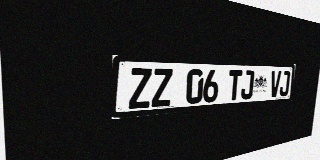0: (185, 69, 204, 104)
6: (202, 69, 219, 103)
J: (240, 70, 254, 100), (279, 71, 290, 97)
T: (227, 70, 242, 101)
V: (269, 71, 281, 97)
Z: (129, 68, 152, 109), (151, 68, 173, 107)
